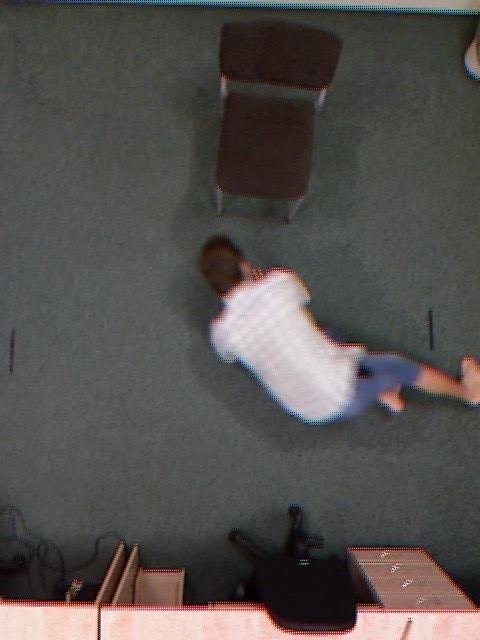fall: (257, 141, 417, 523)
